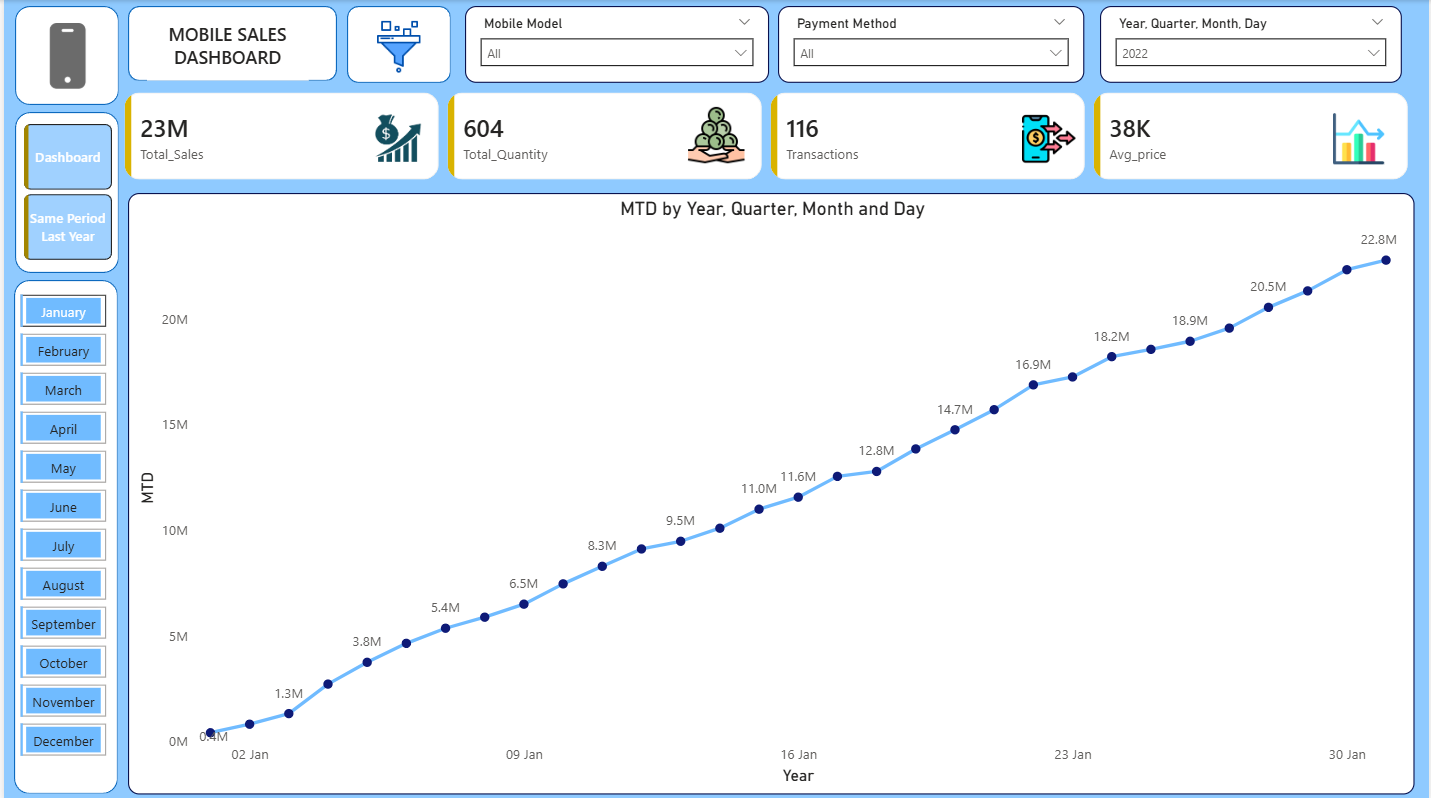

Layout of this report page (visuals, bound fields, positions):
{"tool":"powerbi","page":{"name":"MTD Report","canvas":[1280,720],"ordinal":1},"visuals":[{"type":"shape","box":[9.9,5.4,93.4,88.9],"z":0},{"type":"image","box":[11.7,20.6,90.7,59.3],"z":1000},{"type":"shape","box":[9.9,100.5,93.4,144.5],"z":2000},{"type":"cardVisual","fields":{"Data":["Mobile_sales_data.Total_Sales","Mobile_sales_data.Total_Quantity","Mobile_sales_data.Quantity","Mobile_sales_data.Avg_price"]},"box":[103.2,78.1,1163.5,88.9],"z":3000},{"type":"image","box":[326.8,100.4,53.9,46.7],"z":4000},{"type":"image","box":[610.5,94.2,58.4,53.9],"z":5000},{"type":"image","box":[913.9,95.1,47.6,59.3],"z":6000},{"type":"image","box":[1193.1,100.4,45.8,47.6],"z":7000},{"type":"slicer","fields":{"Values":["Mobile_sales_data.Mobile Model"]},"box":[413.9,5.4,272.9,69.1],"z":8000},{"type":"slicer","fields":{"Values":["Mobile_sales_data.Payment Method"]},"box":[694.9,5.4,274.7,69.1],"z":9000},{"type":"slicer","fields":{"Values":["Custom_Calendar.Date.Variation.Date Hierarchy.Year","Custom_Calendar.Date.Variation.Date Hierarchy.Quarter","Custom_Calendar.Date.Variation.Date Hierarchy.Month","Custom_Calendar.Date.Variation.Date Hierarchy.Day"]},"box":[983.9,5.4,271.1,69.1],"z":10000},{"type":"shape","box":[307.9,5.4,93.4,69.1],"z":11000},{"type":"image","box":[321.4,17.8,65.5,48.5],"z":12000},{"type":"shape","box":[111.3,5.4,187.6,67.3],"z":13000},{"type":"textbox","box":[128.4,14.2,144.5,58.4],"z":14000},{"type":"lineChart","fields":{"Y":["Mobile_sales_data.MTD"],"Category":["Custom_Calendar.Date.Variation.Date Hierarchy.Year","Custom_Calendar.Date.Variation.Date Hierarchy.Quarter","Custom_Calendar.Date.Variation.Date Hierarchy.Month","Custom_Calendar.Date.Variation.Date Hierarchy.Day"]},"box":[111.3,173.3,1155.4,539.6],"z":15000},{"type":"shape","box":[9,251.4,93.4,461.4],"z":16000},{"type":"advancedSlicerVisual","fields":{"Values":["Custom_Calendar.Date.Variation.Date Hierarchy.Month"]},"box":[9.9,259.5,87.1,434.5],"z":17000},{"type":"pageNavigator","box":[18,111.3,79,123],"z":17001}]}

Visuals, with their boxes in screenshot pixels (x1, y1, x2, y2), scaled from the page's 1280x720 canvas onto the 1431x798 screenshot:
shape: box(11, 6, 115, 105)
image: box(13, 23, 114, 89)
shape: box(11, 111, 115, 272)
cardVisual - Mobile_sales_data.Total_Sales x Mobile_sales_data.Total_Quantity: box(115, 87, 1416, 185)
image: box(365, 111, 426, 163)
image: box(683, 104, 748, 164)
image: box(1022, 105, 1075, 171)
image: box(1334, 111, 1385, 164)
slicer - Mobile_sales_data.Mobile Model: box(463, 6, 768, 83)
slicer - Mobile_sales_data.Payment Method: box(777, 6, 1084, 83)
slicer - Custom_Calendar.Date.Variation.Date Hierarchy.Year x Custom_Calendar.Date.Variation.Date Hierarchy.Quarter: box(1100, 6, 1403, 83)
shape: box(344, 6, 449, 83)
image: box(359, 20, 433, 73)
shape: box(124, 6, 334, 81)
textbox: box(144, 16, 305, 80)
lineChart - Mobile_sales_data.MTD x Custom_Calendar.Date.Variation.Date Hierarchy.Year: box(124, 192, 1416, 790)
shape: box(10, 279, 114, 790)
advancedSlicerVisual - Custom_Calendar.Date.Variation.Date Hierarchy.Month: box(11, 288, 108, 769)
pageNavigator: box(20, 123, 108, 260)
